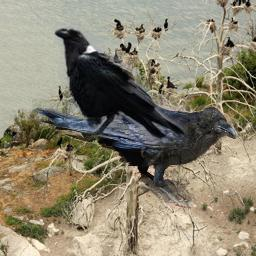Crow: (32, 99, 238, 209), (54, 22, 188, 144)
